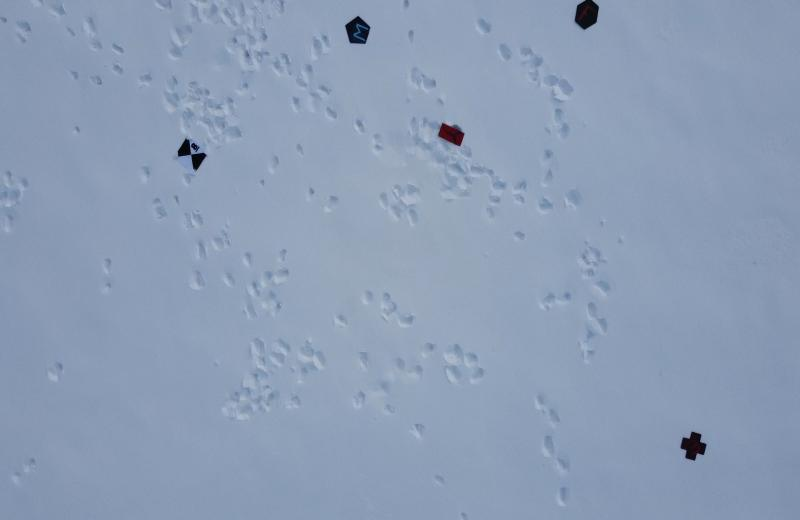Cross: (680, 427, 710, 463)
Hexagon: (571, 0, 602, 33)
Pentagon: (343, 12, 372, 47)
Rectangle: (433, 120, 466, 150)
